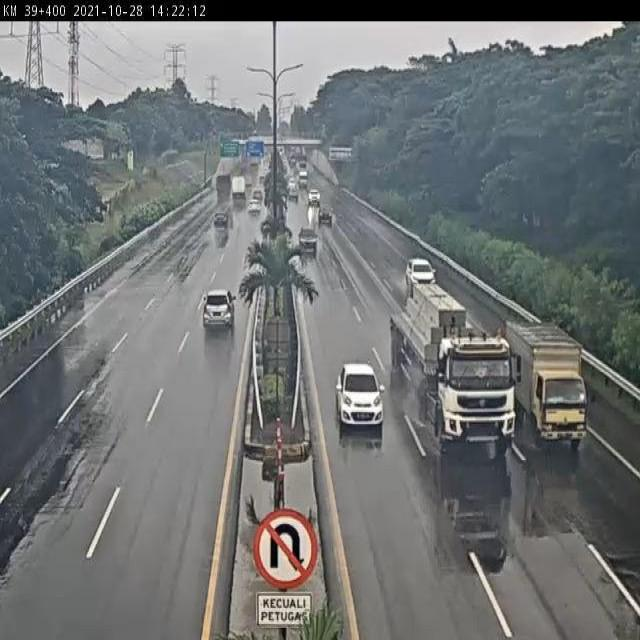car: (335, 360, 387, 436), (198, 287, 238, 336), (404, 258, 439, 294)
truck-s-: (506, 321, 585, 455)
truck-xl-: (391, 280, 514, 455)
